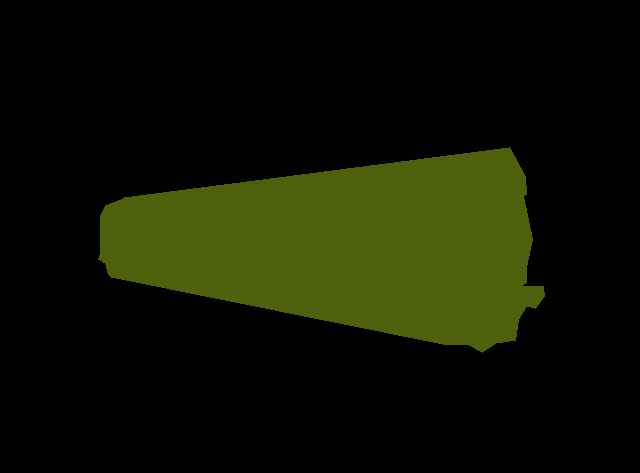Train: (98, 147, 544, 353)
